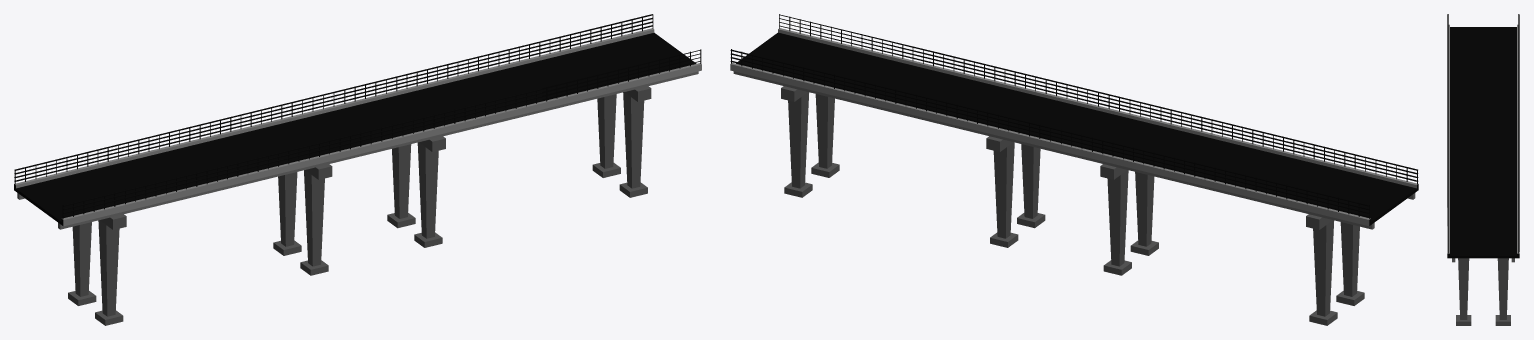
The model's file is TA-Bridge_D.fbx.
3 views of the same model, side by side, from view 1: azimuth 30°, elevation 25°; view 2: azimuth 150°, elevation 25°; view 3: azimuth 270°, elevation 25° (orthographic). The views are drawn at different scales.
Parts seen in each view (by area): view 1: Bridge; view 2: Bridge; view 3: Bridge.
Part boxes in pixels (x1,y1,x2,y2): Bridge: (14, 14, 701, 325); Bridge: (730, 14, 1418, 325); Bridge: (1447, 14, 1519, 325).
Bounding box in the file's own units: 52.35 × 10.69 × 7.01.
Materials: 1 (1 with a texture image).
